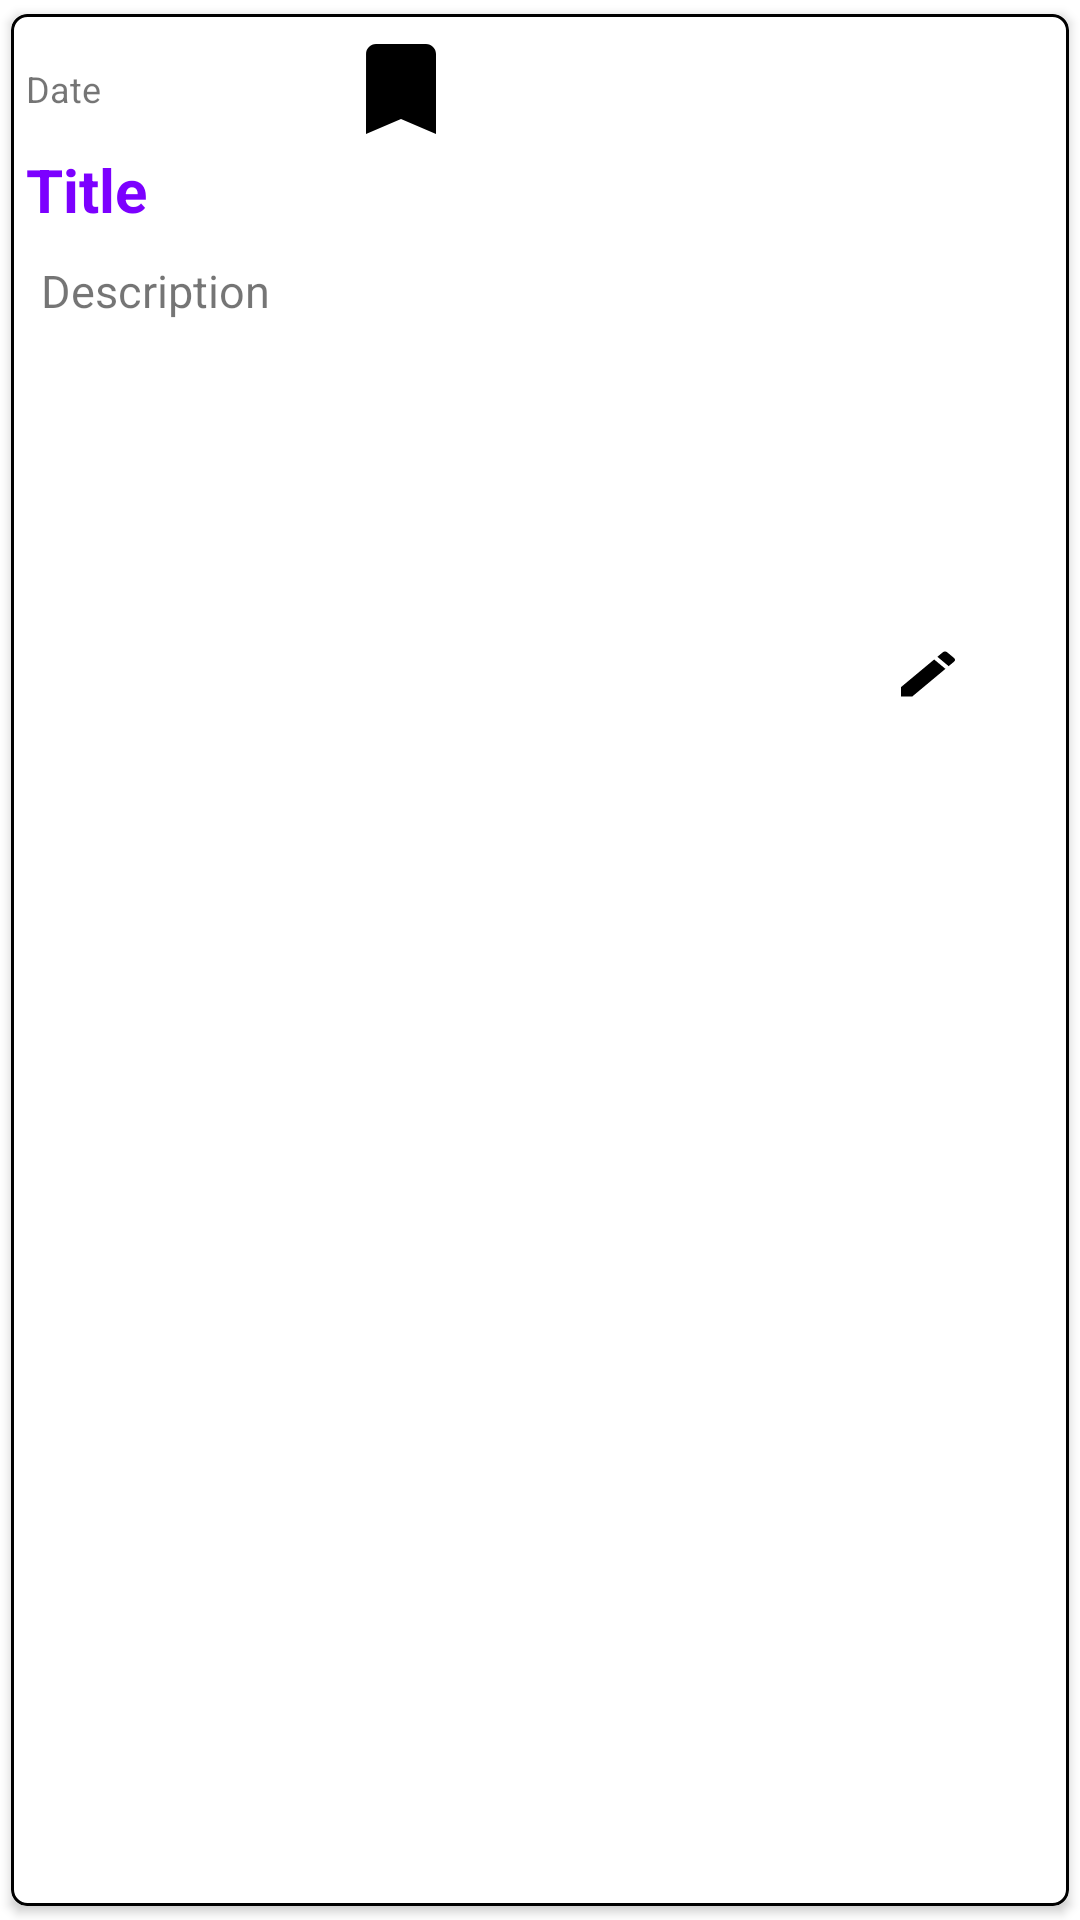

Icons on this 1080×1920 Android screen, each with the point to tap as (x,y):
save: (401,89)
